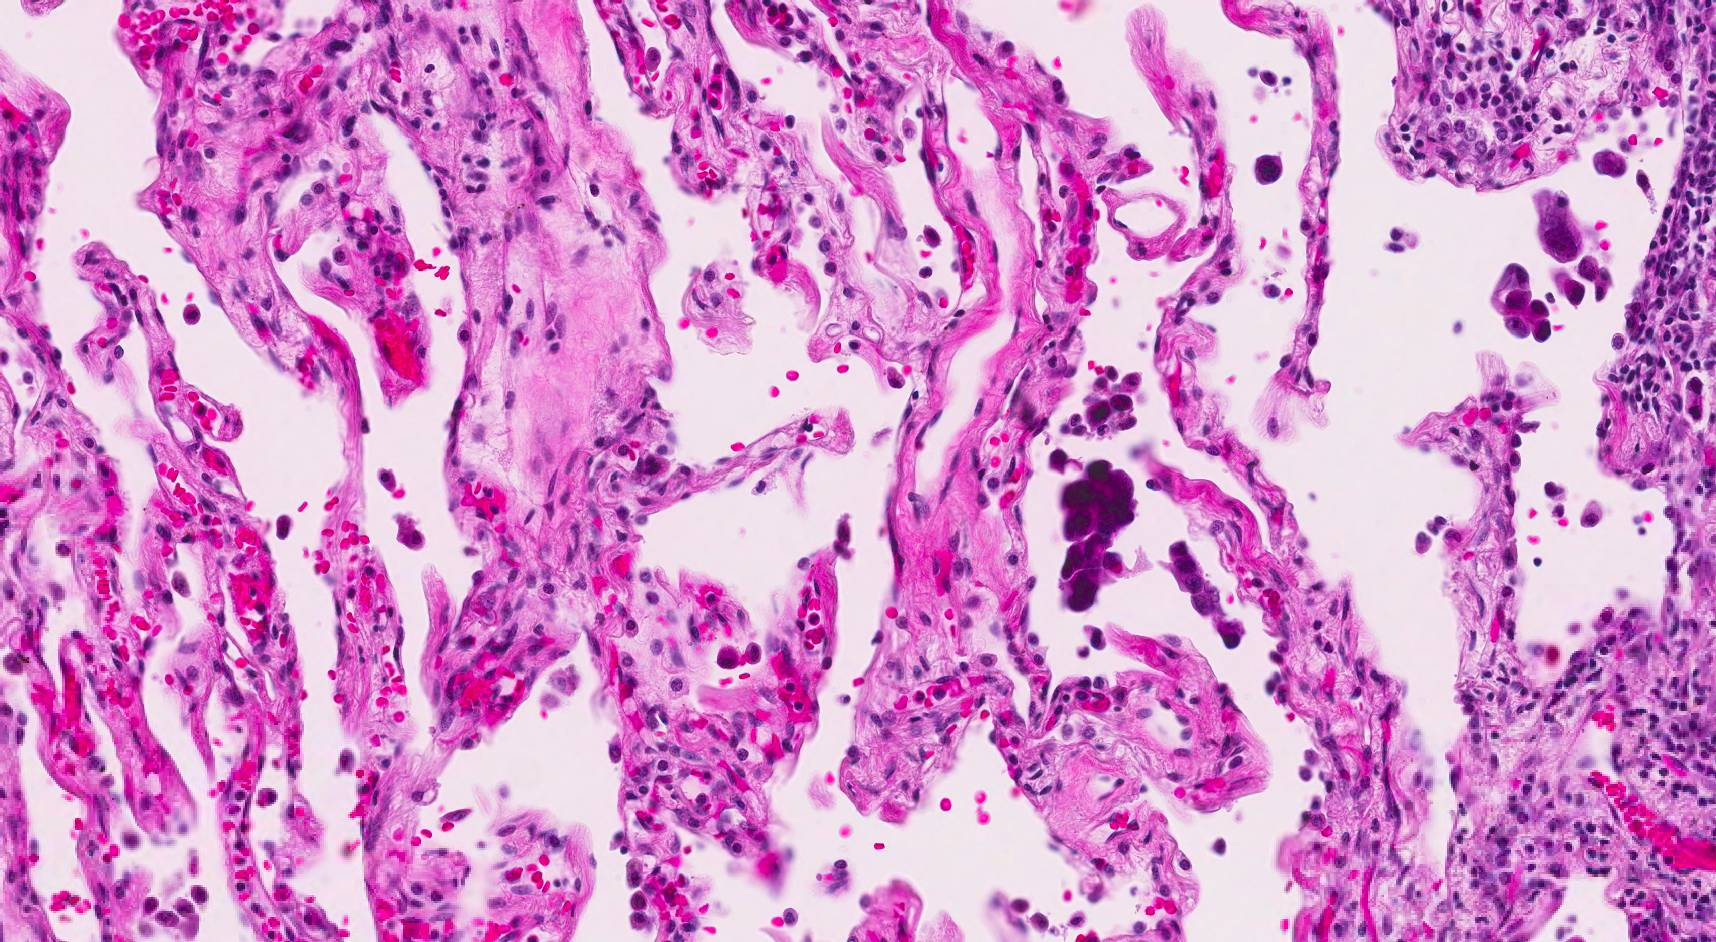stas: (1053, 460, 1138, 613), (1165, 544, 1249, 643), (1489, 262, 1551, 345), (1534, 187, 1583, 261)
